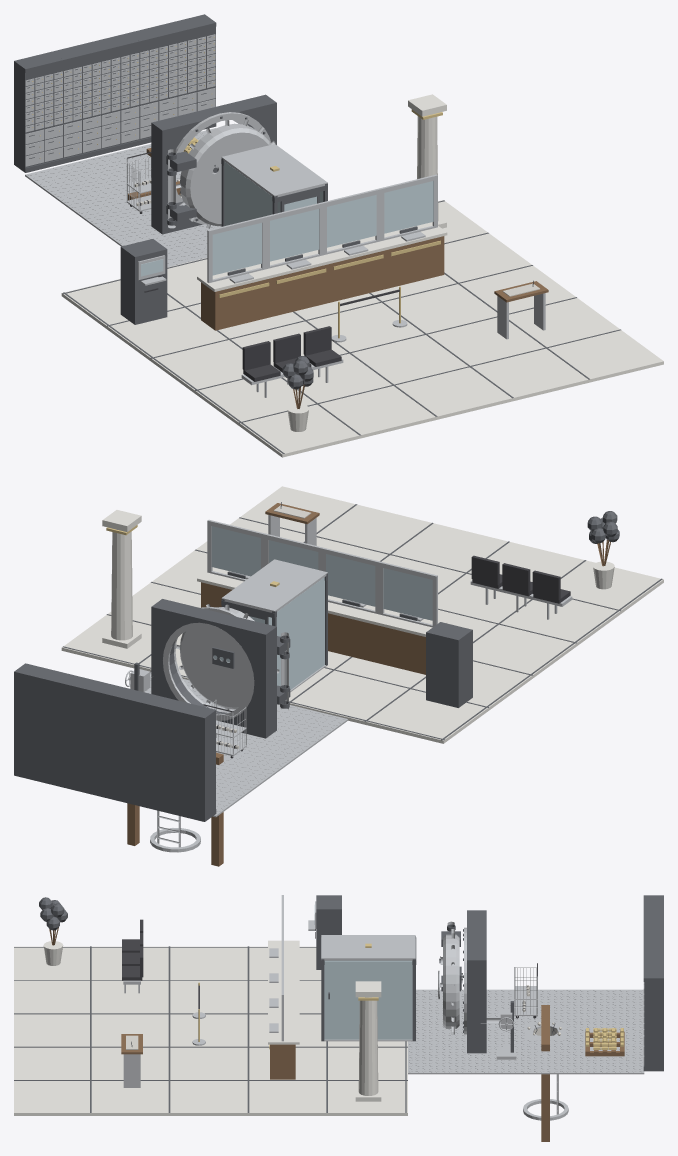
Rendered from bank-vault-heist-kit-bank-hall-vault-and-e68be023-starter-scene__25161.glb.
3 renders of one model, top to bottom at view 1: azimuth 30°, elevation 25°; view 2: azimuth 150°, elevation 25°; view 3: azimuth 270°, elevation 25°, orthographic. The views are drawn at different scales.
Visible parts, largest first — view 1: 041-vault-door-circular/vault-door (×2), 040-vault-door-frame/0, 019-lobby-floor-tile/0, 024-lobby-floor-tile/0, 009-lobby-floor-tile/0, 014-lobby-floor-tile/0, 072-deposit-box-wall-straight/0, 074-deposit-box-wall-straight/1, 073-deposit-box-wall-straight/1, 013-lobby-floor-tile/0, 004-lobby-floor-tile/0, 072-deposit-box-wall-straight/1 (+56 smaller); view 2: 040-vault-door-frame/0, 072-deposit-box-wall-straight/0, 041-vault-door-circular/vault-door (×2), 073-deposit-box-wall-straight/0, 074-deposit-box-wall-straight/0, 075-deposit-box-wall-straight/0, 076-deposit-box-wall-straight/0, 036-atm/0, 039-mantrap-booth/2, 005-lobby-floor-tile/0, 000-lobby-floor-tile/0, 019-lobby-floor-tile/0 (+43 smaller); view 3: 039-mantrap-booth/2, 040-vault-door-frame/0, 022-lobby-floor-tile/0, 021-lobby-floor-tile/0, 024-lobby-floor-tile/0, 023-lobby-floor-tile/0, 002-lobby-floor-tile/0, 017-lobby-floor-tile/0, 039-mantrap-booth/0, 009-lobby-floor-tile/0, 019-lobby-floor-tile/0, 007-lobby-floor-tile/0 (+59 smaller).
Boxes of the visible parts, x1,y1,x2,y2 form: 041-vault-door-circular/vault-door (×2): [166, 119, 275, 229]; 040-vault-door-frame/0: [151, 94, 276, 234]; 019-lobby-floor-tile/0: [467, 347, 587, 401]; 024-lobby-floor-tile/0: [544, 329, 663, 382]; 009-lobby-floor-tile/0: [315, 385, 434, 438]; 014-lobby-floor-tile/0: [391, 366, 511, 420]; 072-deposit-box-wall-straight/0: [14, 51, 63, 172]; 074-deposit-box-wall-straight/1: [101, 53, 139, 147]; 073-deposit-box-wall-straight/1: [63, 62, 101, 157]; 013-lobby-floor-tile/0: [347, 334, 466, 384]; 004-lobby-floor-tile/0: [238, 403, 358, 457]; 072-deposit-box-wall-straight/1: [25, 71, 62, 166]; 040-vault-door-frame/0: [151, 599, 276, 738]; 072-deposit-box-wall-straight/0: [166, 700, 216, 821]; 041-vault-door-circular/vault-door (×2): [176, 604, 290, 711]; 073-deposit-box-wall-straight/0: [128, 691, 177, 812]; 074-deposit-box-wall-straight/0: [90, 682, 139, 803]; 075-deposit-box-wall-straight/0: [52, 672, 101, 793]; 076-deposit-box-wall-straight/0: [14, 663, 62, 784]; 036-atm/0: [426, 622, 472, 707]; 039-mantrap-booth/2: [229, 577, 324, 689]; 005-lobby-floor-tile/0: [291, 671, 410, 725]; 000-lobby-floor-tile/0: [367, 690, 487, 743]; 019-lobby-floor-tile/0: [316, 505, 434, 555]; 039-mantrap-booth/2: [324, 960, 412, 1039]; 040-vault-door-frame/0: [463, 910, 486, 1053]; 022-lobby-floor-tile/0: [171, 1079, 250, 1115]; 021-lobby-floor-tile/0: [250, 1079, 328, 1115]; 024-lobby-floor-tile/0: [14, 1079, 92, 1115]; 023-lobby-floor-tile/0: [92, 1079, 171, 1115]; 002-lobby-floor-tile/0: [171, 946, 250, 979]; 017-lobby-floor-tile/0: [171, 1046, 250, 1079]; 039-mantrap-booth/0: [321, 935, 415, 1041]; 009-lobby-floor-tile/0: [14, 980, 92, 1013]; 019-lobby-floor-tile/0: [14, 1046, 92, 1079]; 007-lobby-floor-tile/0: [171, 980, 250, 1013].
Size of the model in its own units: 10 by 5.65 by 16.5.
